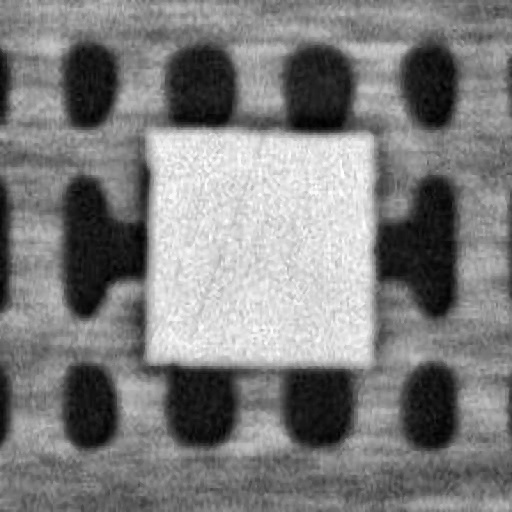DIE_CRACK: (281, 87, 393, 225)
